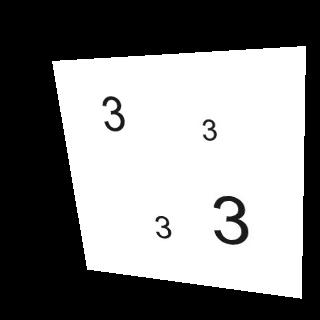three: (204, 192, 258, 246), (94, 93, 134, 133), (148, 213, 176, 241), (197, 117, 223, 143)
